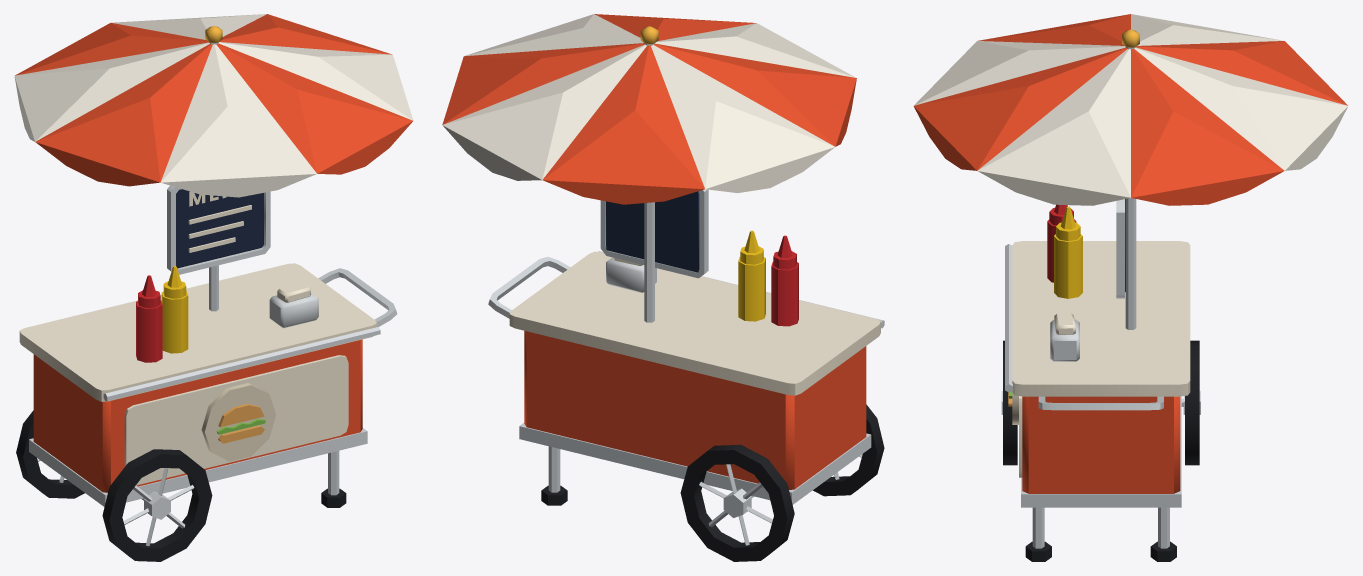
Rendered from Lobby_FoodCart.fbx.
The picture shows the model from 3 angles, left to right: view 1: azimuth 30°, elevation 25°; view 2: azimuth 150°, elevation 25°; view 3: azimuth 270°, elevation 25°; orthographic projection. The views are drawn at different scales.
Visible parts, largest first — view 1: Cream, UmbrellaRed, UmbrellaCream, Chrome, CartBody, Rubber, MenuBoard, Badge1, Mustard, Ketchup, Badge2; view 2: CartBody, UmbrellaCream, UmbrellaRed, Cream, Chrome, Rubber, MenuBoard, Mustard, Ketchup; view 3: UmbrellaCream, UmbrellaRed, Cream, CartBody, Chrome, Rubber, Mustard, Ketchup.
Boxes of the visible parts, x1,y1,x2,y2 form: Cream: (19,191,376,485); UmbrellaRed: (15,14,412,186); UmbrellaCream: (14,14,413,197); Chrome: (29,42,397,546); CartBody: (33,339,362,492); Rubber: (16,410,346,561); MenuBoard: (176,189,263,268); Badge1: (201,383,276,461); Mustard: (161,266,188,353); Ketchup: (136,275,162,362); Badge2: (218,404,264,443); CartBody: (524,330,866,489); UmbrellaCream: (442,14,855,192); UmbrellaRed: (442,14,856,204); Cream: (509,251,880,395); Chrome: (488,43,884,545); Rubber: (541,404,884,561); MenuBoard: (606,191,699,272); Mustard: (738,230,765,321); Ketchup: (771,235,798,326); UmbrellaCream: (914,14,1348,205); UmbrellaRed: (913,14,1347,205); Cream: (1012,241,1190,477); CartBody: (1022,396,1180,493); Chrome: (1001,47,1200,548); Rubber: (1003,340,1199,561); Mustard: (1054,206,1082,298); Ketchup: (1047,204,1076,282).
Bounding box in the file's own units: 660 × 818 × 660.
